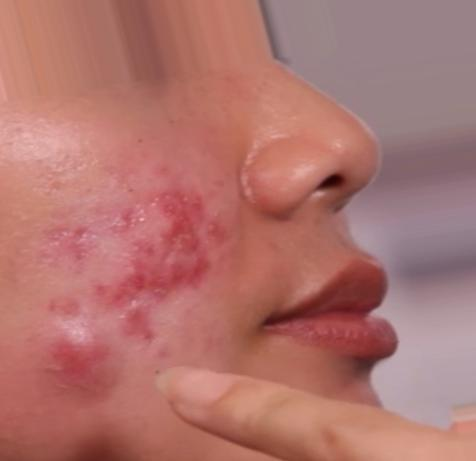Acne: (148, 195, 224, 291), (45, 313, 119, 387), (108, 278, 170, 344), (53, 226, 98, 265)
